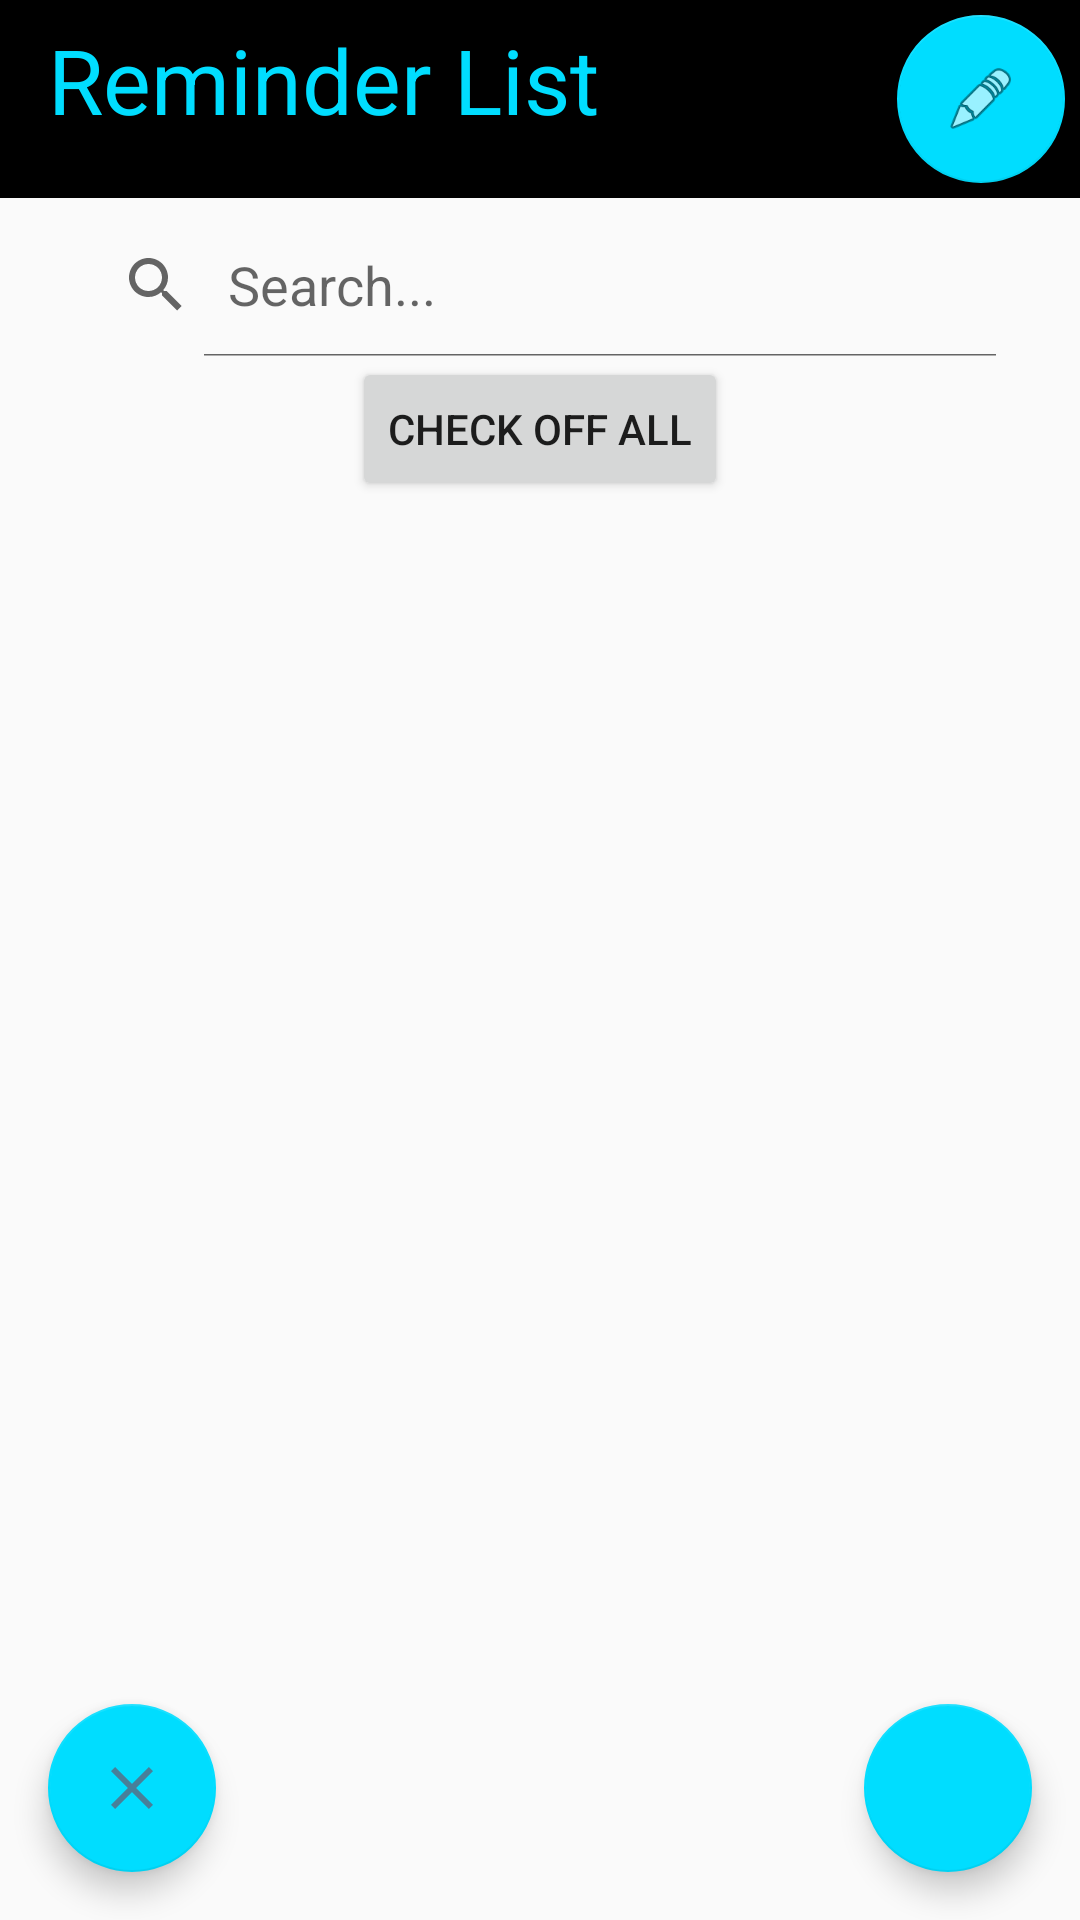

Named icons in this screenshot (1080×1920) and their bounding boxes, (x1, y1, x2, y2):
clear: (48, 1704, 216, 1872)
edit: (897, 15, 1065, 183)
